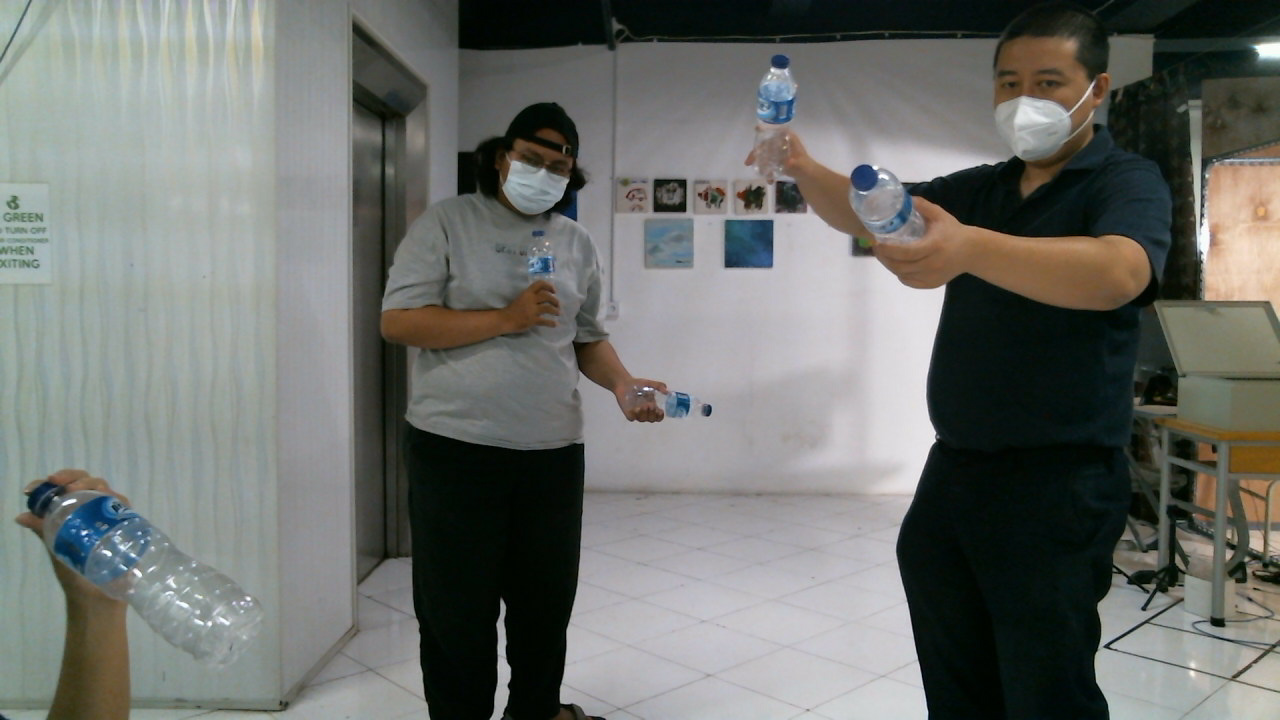Bottle: (27, 480, 263, 673), (843, 167, 930, 252), (749, 50, 798, 176), (627, 381, 715, 421)
